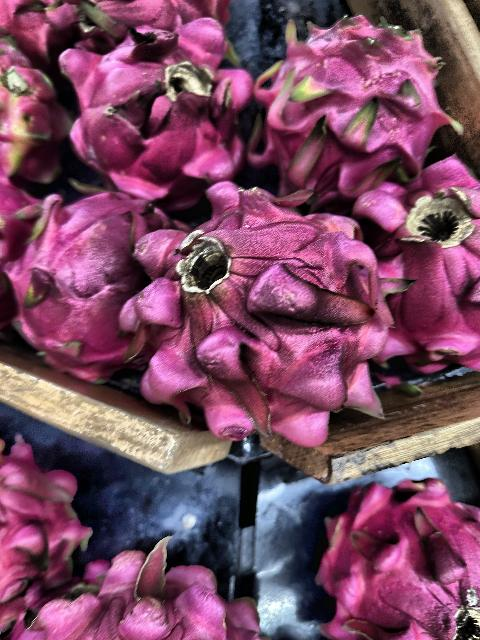buah-naga-matang: (148, 176, 380, 450), (55, 16, 248, 198), (253, 12, 440, 192), (0, 187, 160, 393), (344, 156, 480, 364), (328, 480, 480, 640)
